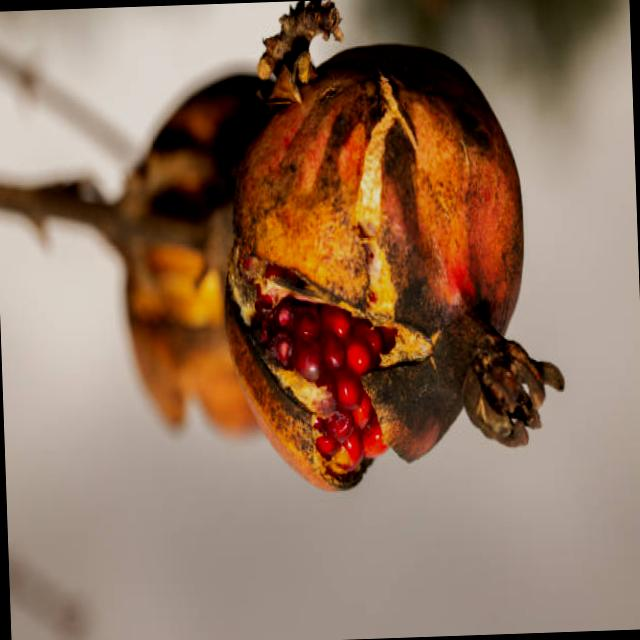overripe: (212, 0, 559, 499)
